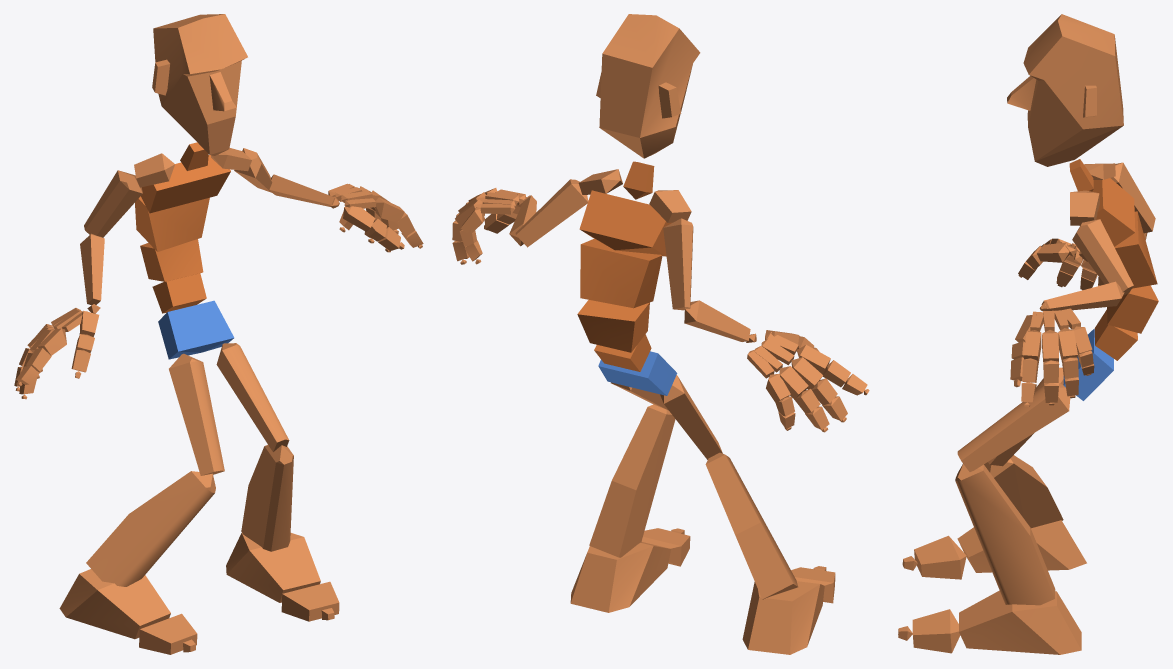
File: prueba181.obj
3 renders of one model, left to right at view 1: azimuth 30°, elevation 25°; view 2: azimuth 150°, elevation 25°; view 3: azimuth 270°, elevation 25°, orthographic. The views are drawn at different scales.
Parts seen in each view (by area): view 1: BOPED_Head, BOPED_R_leg, BOPED_R_foot, BOPED_L_leg, BOPED_R_foot01, BOPED_R_legup, Bone01, BOPED_L_legup, Bone04, Bone05, BOPED_R_arm_upper, Bone03 (+8 smaller); view 2: BOPED_Head, BOPED_L_leg, BOPED_R_leg, BOPED_R_foot01, BOPED_R_foot, Bone04, Bone05, Bone03, BOPED_R_arm_upper, BOPED_L_arm_upper, BOPED_R_legup, Bone01 (+7 smaller); view 3: BOPED_Head, BOPED_L_leg, BOPED_R_foot01, BOPED_L_legup, BOPED_R_leg, BOPED_R_foot, BOPED_L_arm_upper, Bone05, BOPED_R_foot_toe01, BOPED_R_foot_toe04, Bone03, Bone04 (+12 smaller).
Part boxes in pixels (x1,y1,x2,y2): BOPED_Head: (152,14,247,155); BOPED_R_leg: (86,471,215,586); BOPED_R_foot: (59,569,170,639); BOPED_L_leg: (241,445,293,551); BOPED_R_foot01: (226,533,320,602); BOPED_R_legup: (169,353,224,475); Bone01: (158,300,234,359); BOPED_L_legup: (216,343,289,451); Bone04: (135,196,209,251); Bone05: (141,155,230,213); BOPED_R_arm_upper: (84,170,142,237); Bone03: (140,239,203,281); BOPED_Head: (596,14,700,158); BOPED_L_leg: (589,404,675,557); BOPED_R_leg: (705,452,798,599); BOPED_R_foot01: (570,541,671,612); BOPED_R_foot: (742,581,824,654); Bone04: (580,239,662,308); Bone05: (579,190,672,256); Bone03: (577,300,649,352); BOPED_R_arm_upper: (663,218,693,310); BOPED_L_arm_upper: (515,179,588,247); BOPED_R_legup: (660,375,722,459); Bone01: (598,351,677,395); BOPED_Head: (1007,14,1123,166); BOPED_L_leg: (955,464,1055,605); BOPED_R_foot01: (959,590,1081,654); BOPED_L_legup: (957,383,1070,471); BOPED_R_leg: (984,455,1063,528); BOPED_R_foot: (957,520,1086,572); BOPED_L_arm_upper: (1072,219,1133,295); Bone05: (1092,178,1135,246); BOPED_R_foot_toe01: (914,535,966,579); BOPED_R_foot_toe04: (912,609,960,653); Bone03: (1107,285,1158,333); Bone04: (1114,211,1157,288).
Bounding box in the file's own units: 130 × 176 × 70.13.
